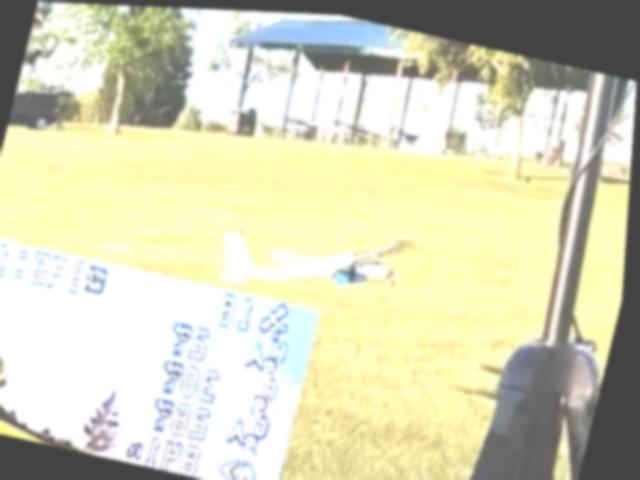iha: (216, 195, 417, 317)
